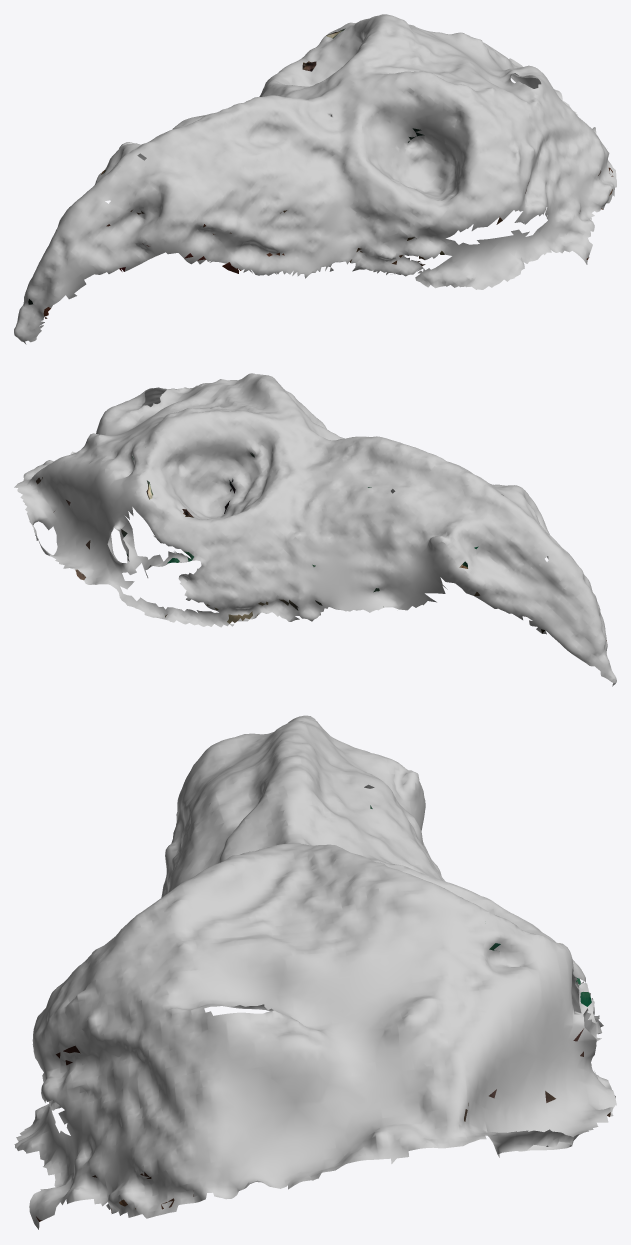
The model's file is birdy.fbx.
3 renders of one model, top to bottom at view 1: azimuth 30°, elevation 25°; view 2: azimuth 150°, elevation 25°; view 3: azimuth 270°, elevation 25°, orthographic. The views are drawn at different scales.
Parts seen in each view (by area): view 1: model_surface_text.001; view 2: model_surface_text.001; view 3: model_surface_text.001.
Boxes of the visible parts, x1,y1,x2,y2 form: model_surface_text.001: (14,14,616,344); model_surface_text.001: (14,373,616,686); model_surface_text.001: (14,715,616,1229).
Size of the model in its own units: 454 by 156 by 264.
